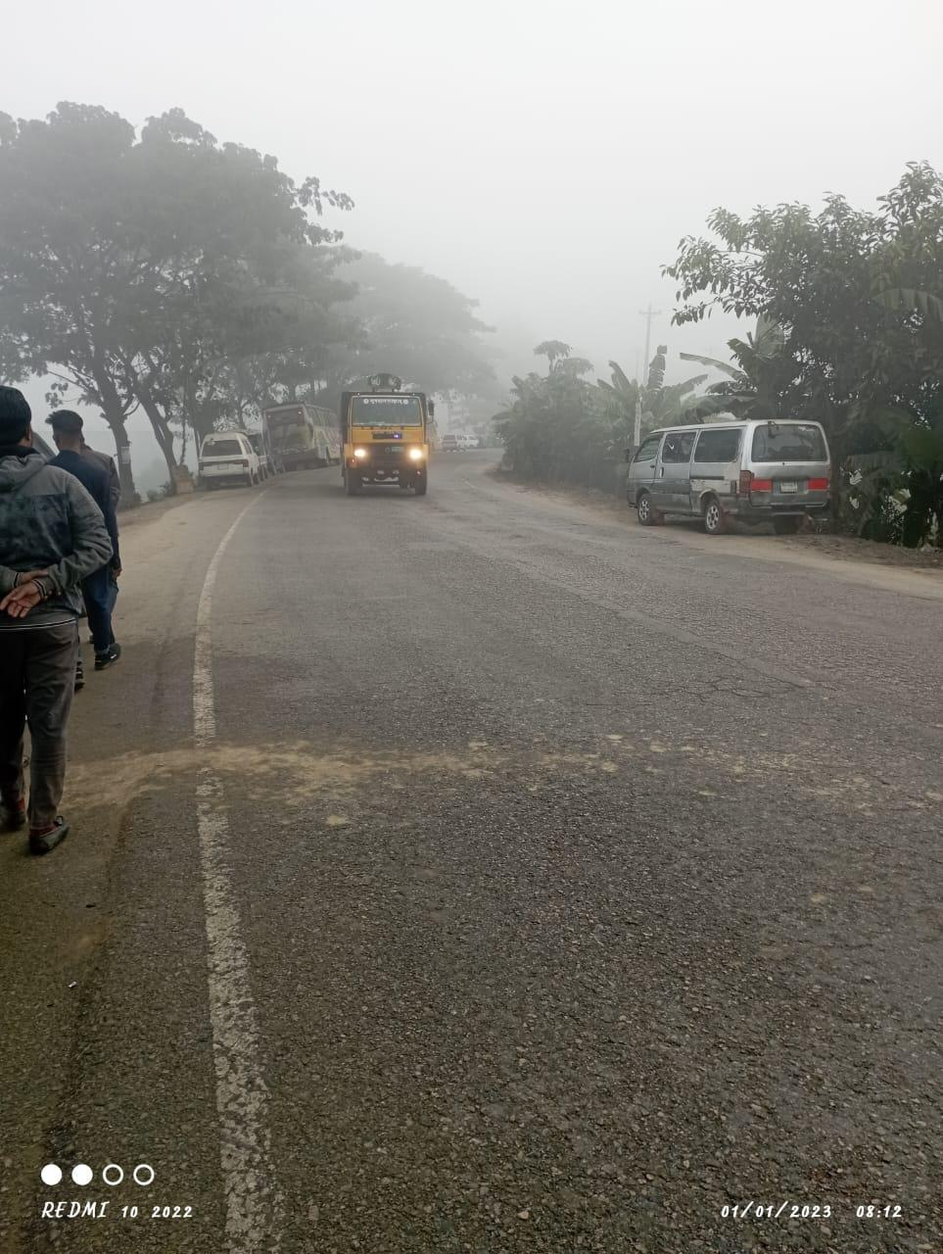Bus: (264, 392, 343, 467)
Car: (617, 407, 834, 536), (188, 424, 260, 485)
Truck: (329, 371, 451, 499)
